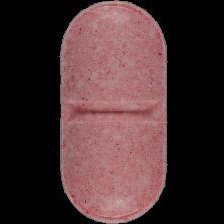10544-232: (0, 0, 224, 224)
